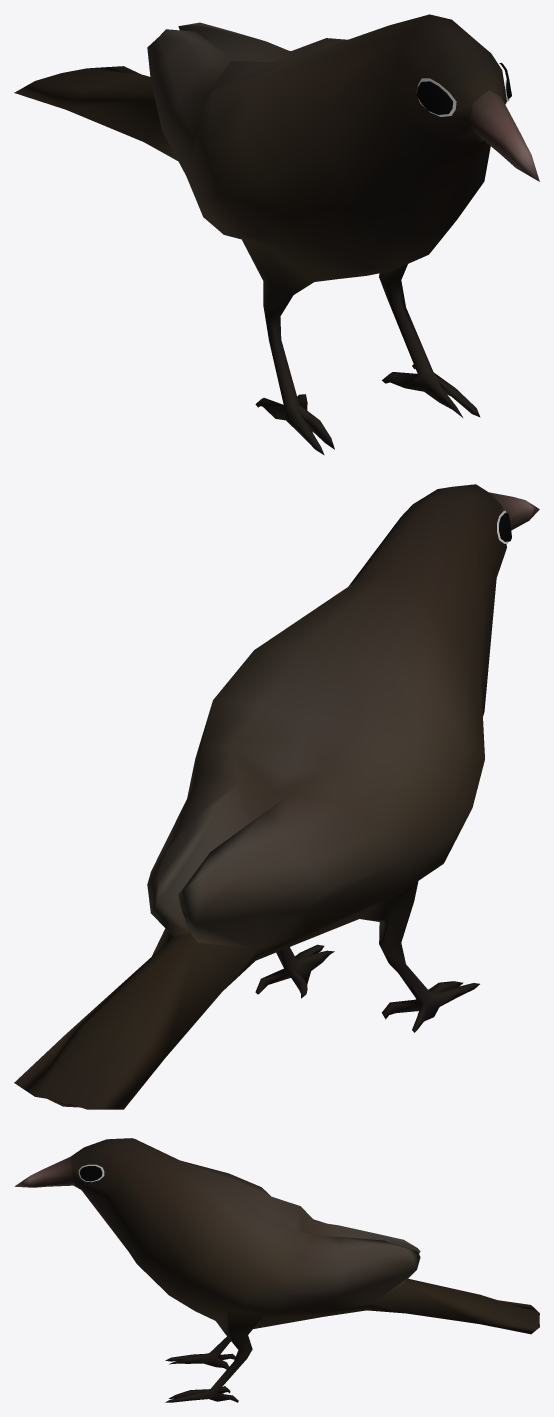
File: crow.glb
3 views of the same model, one above another, from view 1: azimuth 30°, elevation 25°; view 2: azimuth 150°, elevation 25°; view 3: azimuth 270°, elevation 25° (orthographic). The views are drawn at different scales.
Parts seen in each view (by area): view 1: base; view 2: base; view 3: base.
Boxes of the visible parts, x1,y1,x2,y2 form: base: (14,14,539,455); base: (14,484,539,1109); base: (14,1138,539,1402).
Bounding box in the file's own units: 9.84 × 16.38 × 32.11.
